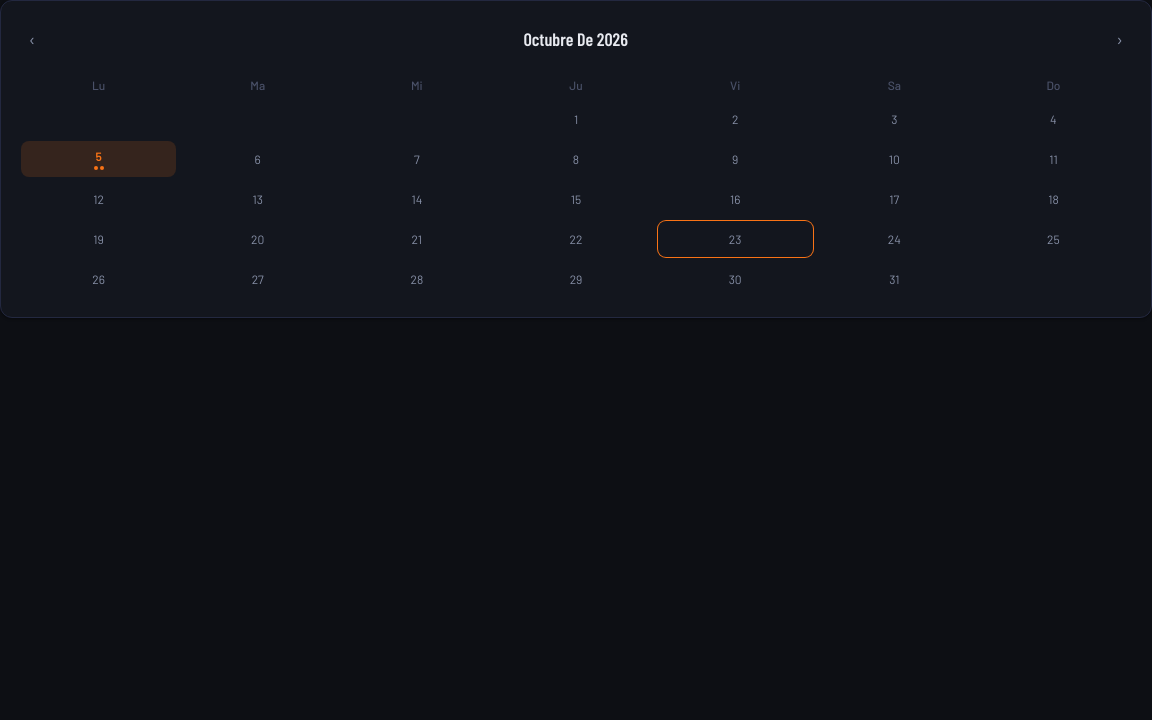
Test: Calendar day modal (dashboard UX) › opens a dialog listing the day activities when a day is clicked
Click the button "5" at [99, 159], box [21, 141, 176, 177]
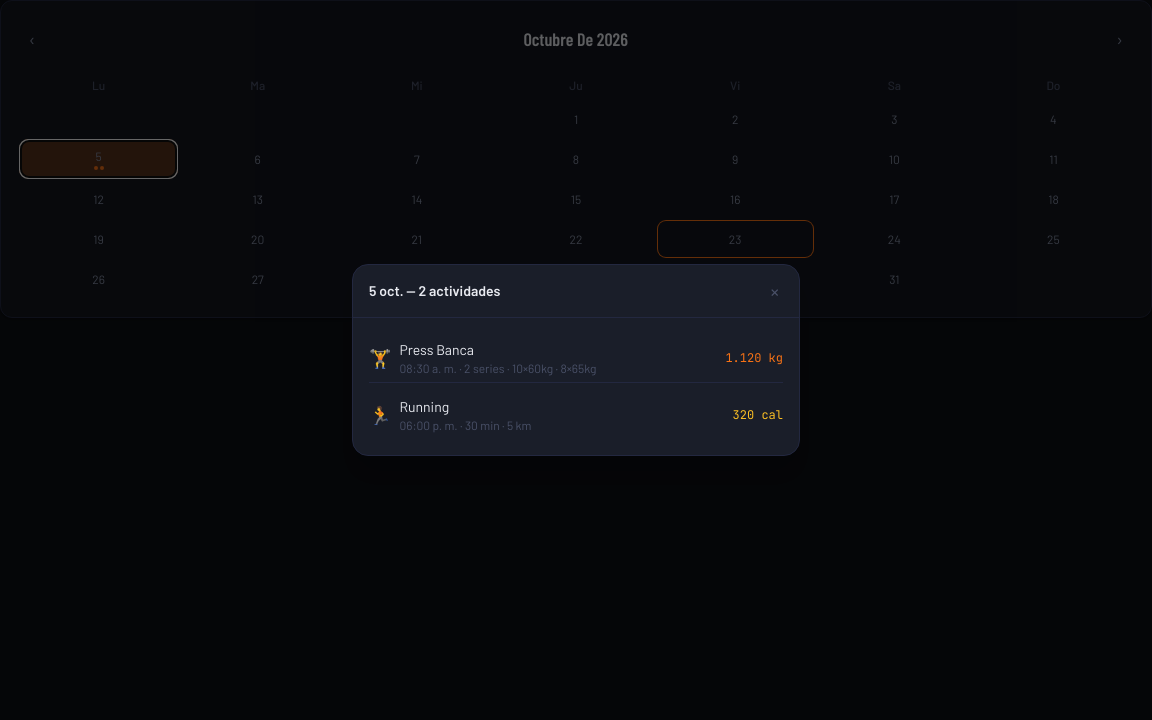
Now the dialog is shown, box [352, 264, 800, 456]
Now the text "Press banca" is shown, box [400, 341, 474, 358]
Now the text "running" is shown, box [400, 398, 449, 415]
